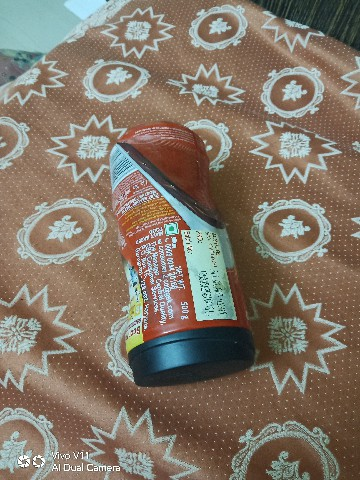boost big: (77, 104, 259, 391)
